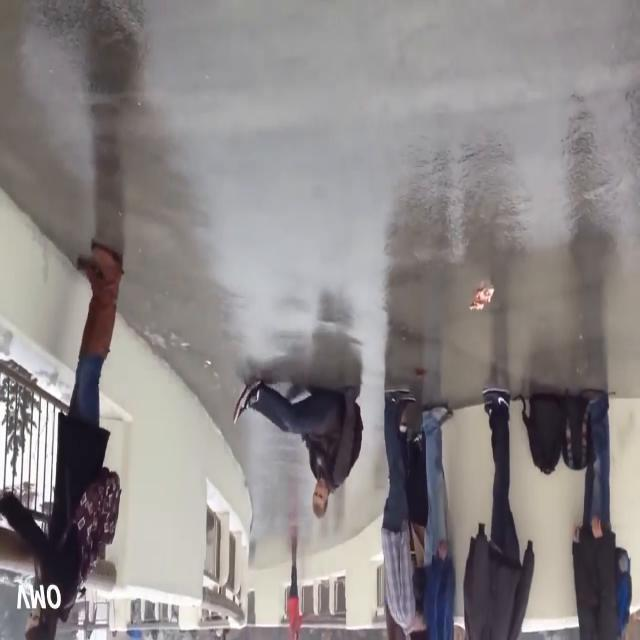fall: (231, 379, 366, 520)
